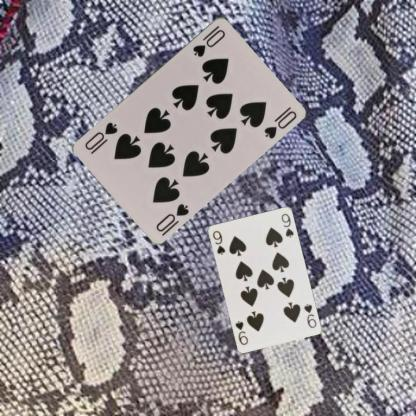10s: (190, 22, 227, 58), (153, 200, 191, 233)
9s: (210, 228, 226, 256), (301, 301, 317, 329)
